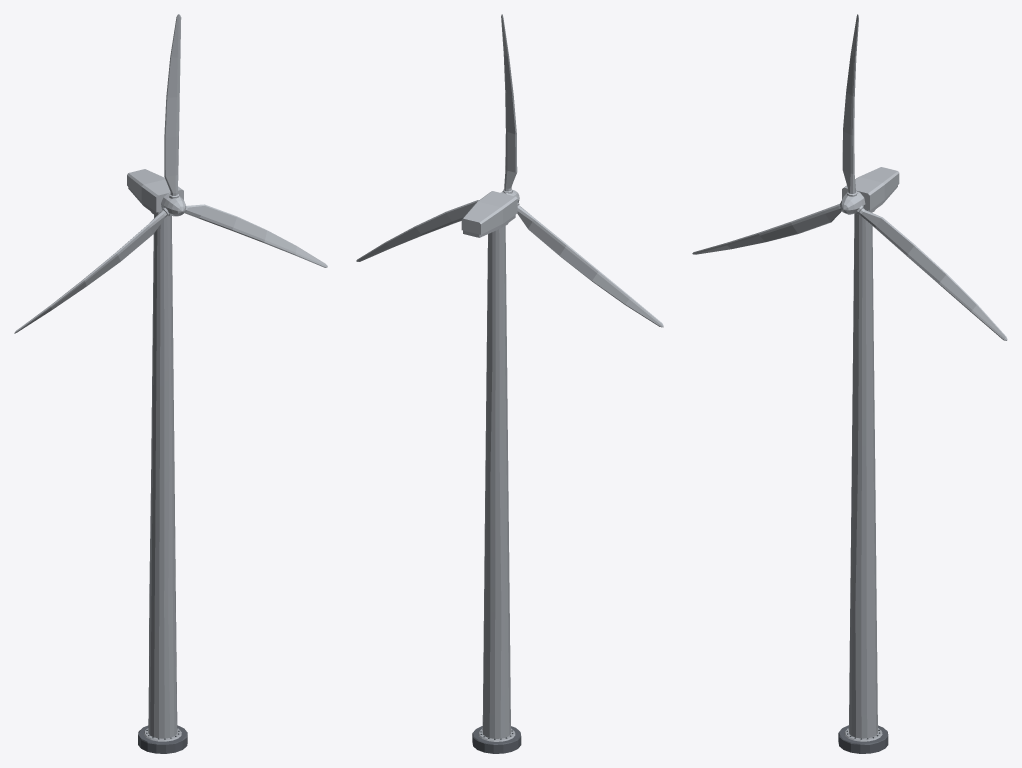
The model's file is bg-windfarm.glb.
3 views of the same model, side by side, from view 1: azimuth 30°, elevation 25°; view 2: azimuth 150°, elevation 25°; view 3: azimuth 330°, elevation 25° (orthographic). The views are drawn at different scales.
Visible parts, largest first — view 1: SM_Prop_Windfarm_01, SM_Prop_Windfarm_Blades_01; view 2: SM_Prop_Windfarm_01, SM_Prop_Windfarm_Blades_01; view 3: SM_Prop_Windfarm_01, SM_Prop_Windfarm_Blades_01.
Part boxes in pixels (x1=…): SM_Prop_Windfarm_01: x1=127, y1=169, x2=187, y2=753; SM_Prop_Windfarm_Blades_01: x1=14, y1=14, x2=327, y2=333; SM_Prop_Windfarm_01: x1=461, y1=191, x2=521, y2=753; SM_Prop_Windfarm_Blades_01: x1=356, y1=14, x2=663, y2=327; SM_Prop_Windfarm_01: x1=838, y1=167, x2=899, y2=753; SM_Prop_Windfarm_Blades_01: x1=692, y1=14, x2=1007, y2=340.
Bounding box in the file's own units: 38.85 × 87.09 × 9.86.
1 material, 1 textured.
